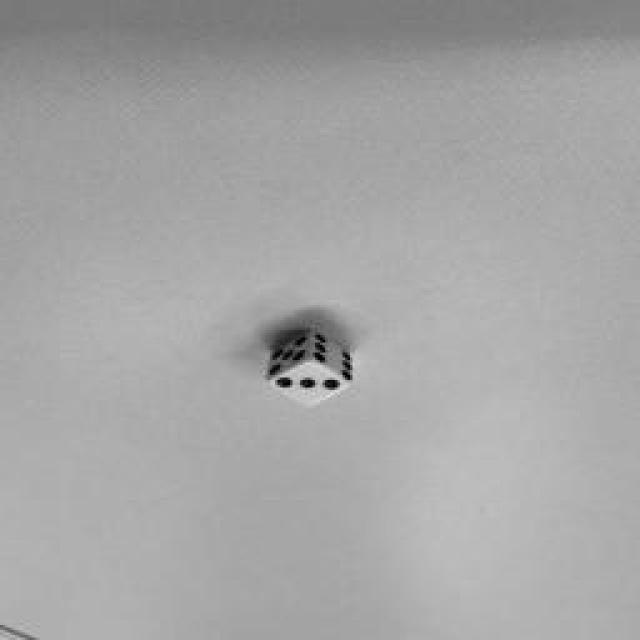dice_3: (268, 360, 352, 408)
